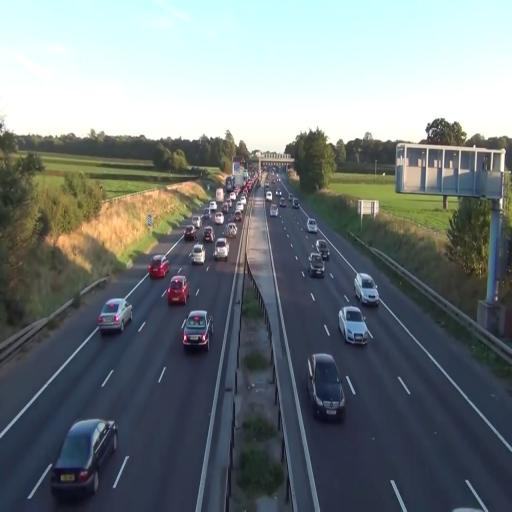vehicle: (50, 418, 118, 499), (307, 352, 347, 423), (337, 306, 373, 346), (97, 296, 133, 332), (181, 309, 211, 352), (354, 272, 379, 309), (167, 274, 190, 307), (148, 255, 170, 281), (308, 250, 326, 278), (190, 243, 206, 266), (214, 237, 229, 261), (182, 225, 196, 242), (226, 221, 238, 238), (306, 218, 318, 234)
